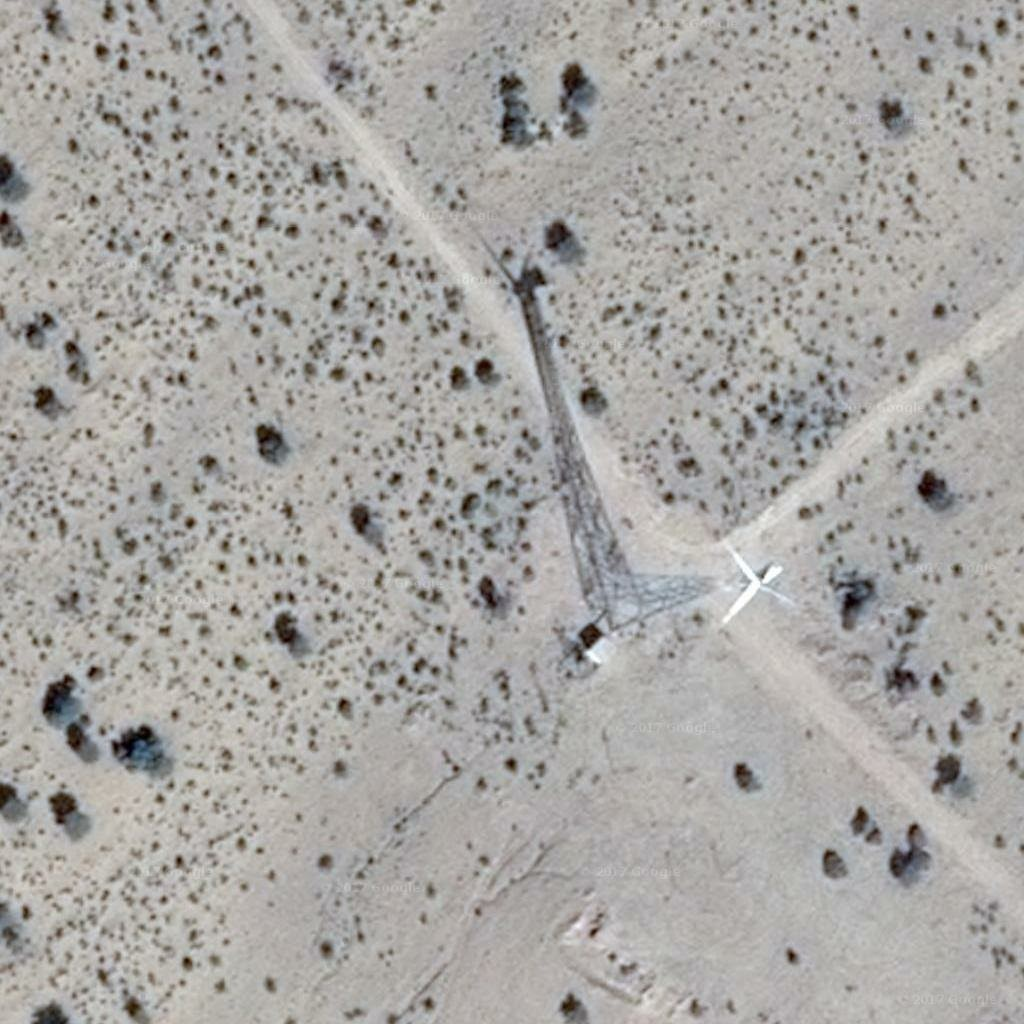Windmill: (473, 229, 652, 584)
